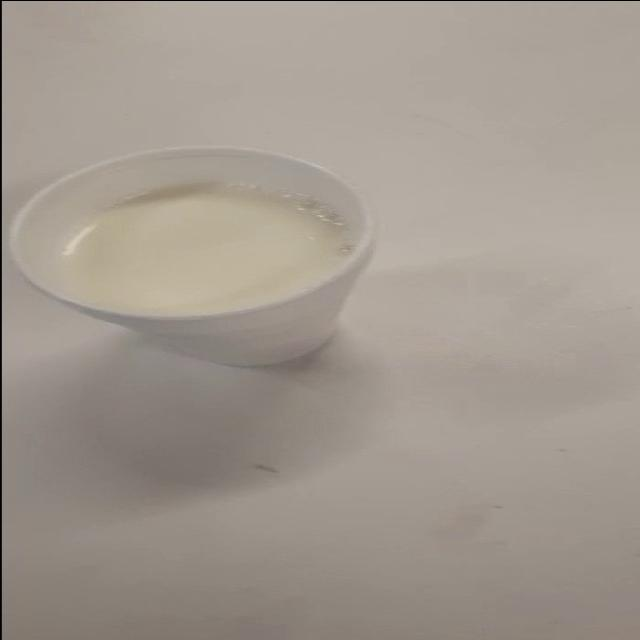Milk: (21, 132, 438, 390)
